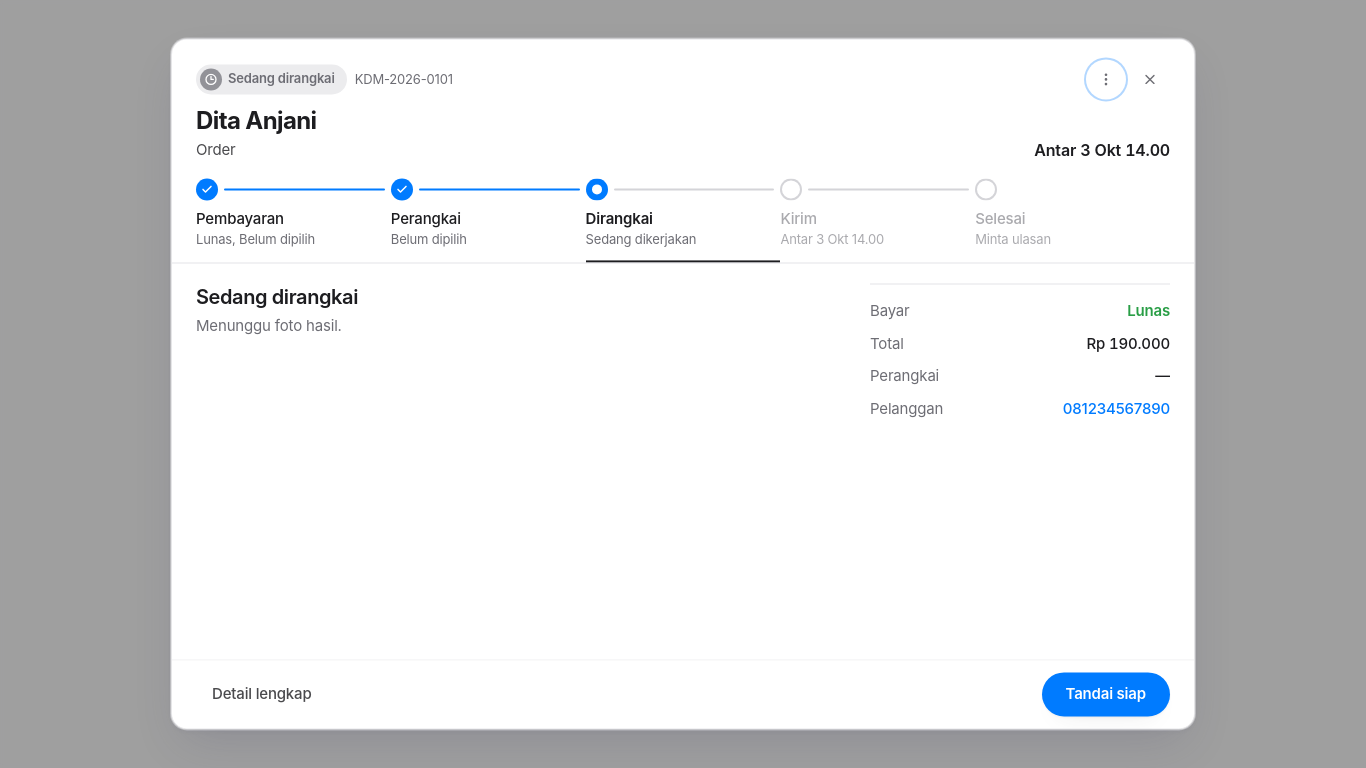
it: order process view (Owner/Admin) › earlier steps can be opened to look back; later steps cannot
The image size is (1366, 768).
Click the button "Pembayaran Lunas, Belum dipilih" at [293, 235], box [196,208,391,263]
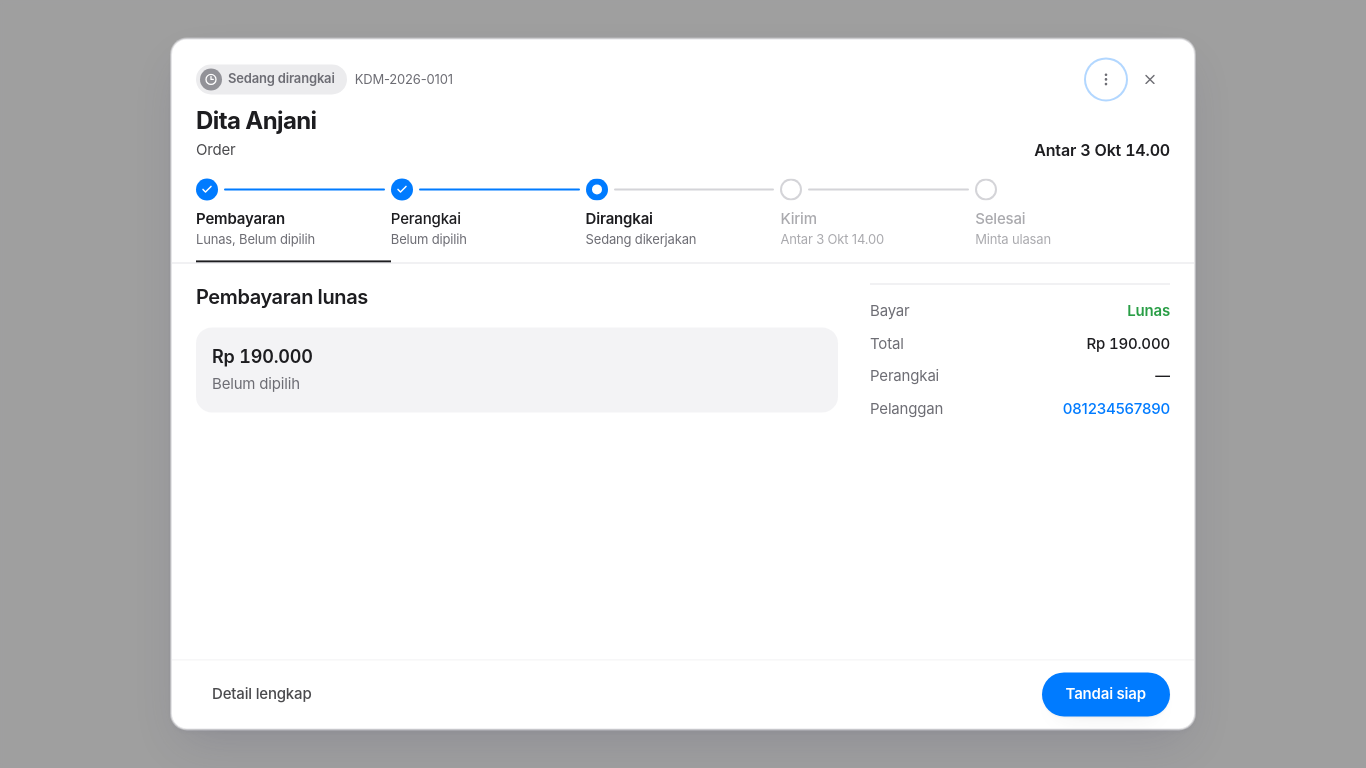
Expected: the button "Selesai Minta ulasan" is disabled, [975,208,1170,263]
Now the heading "Pembayaran lunas" is shown, box [196,286,368,310]
